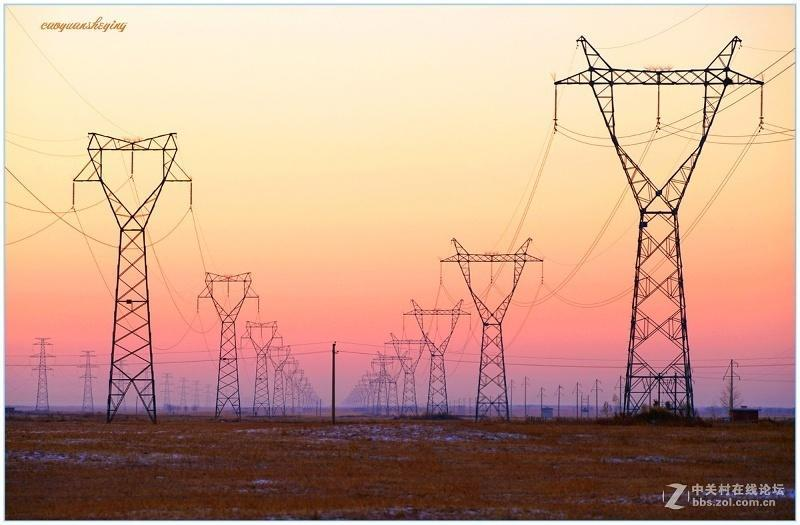power_tower: (552, 32, 765, 424), (69, 130, 195, 424), (439, 237, 545, 421), (191, 266, 262, 418), (401, 295, 472, 420), (239, 316, 284, 418), (384, 329, 431, 420), (23, 330, 63, 416), (372, 350, 414, 420), (260, 342, 292, 418), (72, 348, 103, 416), (274, 356, 302, 421), (108, 352, 131, 417), (156, 368, 179, 415), (361, 370, 385, 412), (140, 362, 158, 415), (286, 368, 306, 415), (176, 372, 190, 414), (190, 379, 204, 407), (202, 382, 214, 408)
